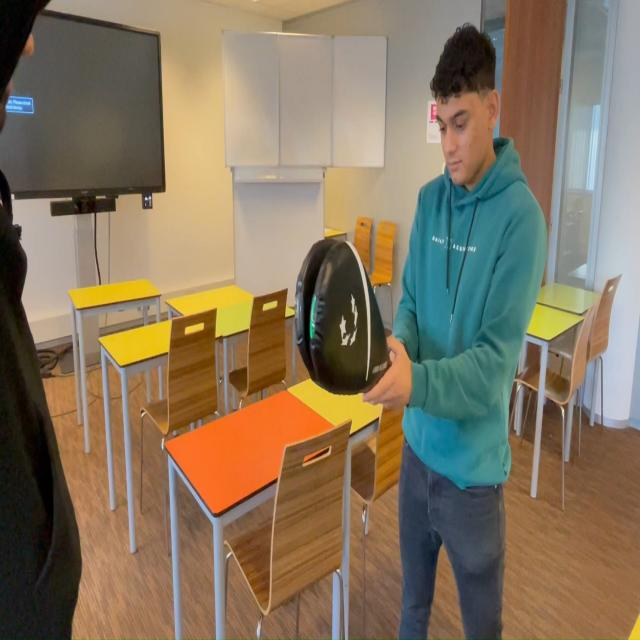paddle: (296, 235, 387, 392)
trigger: (309, 289, 317, 341)
